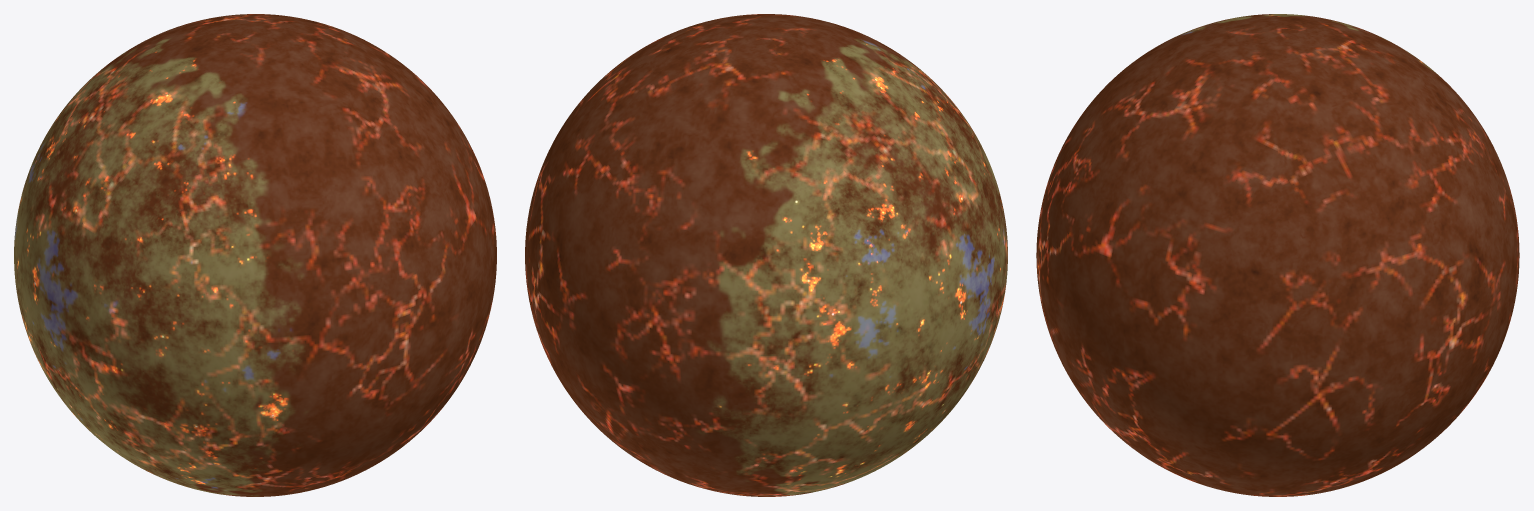
3 renders of one model, left to right at view 1: azimuth 30°, elevation 25°; view 2: azimuth 150°, elevation 25°; view 3: azimuth 270°, elevation 25°, orthographic.
Parts seen in each view (by area): view 1: planet_0; view 2: planet_0; view 3: planet_0.
Part boxes in pixels (x1,y1,x2,y2): planet_0: (14,14,496,496); planet_0: (525,14,1007,496); planet_0: (1036,14,1519,496).
Size of the model in its own units: 2.02 by 2.02 by 2.02.
Materials: 1 (1 with a texture image).
